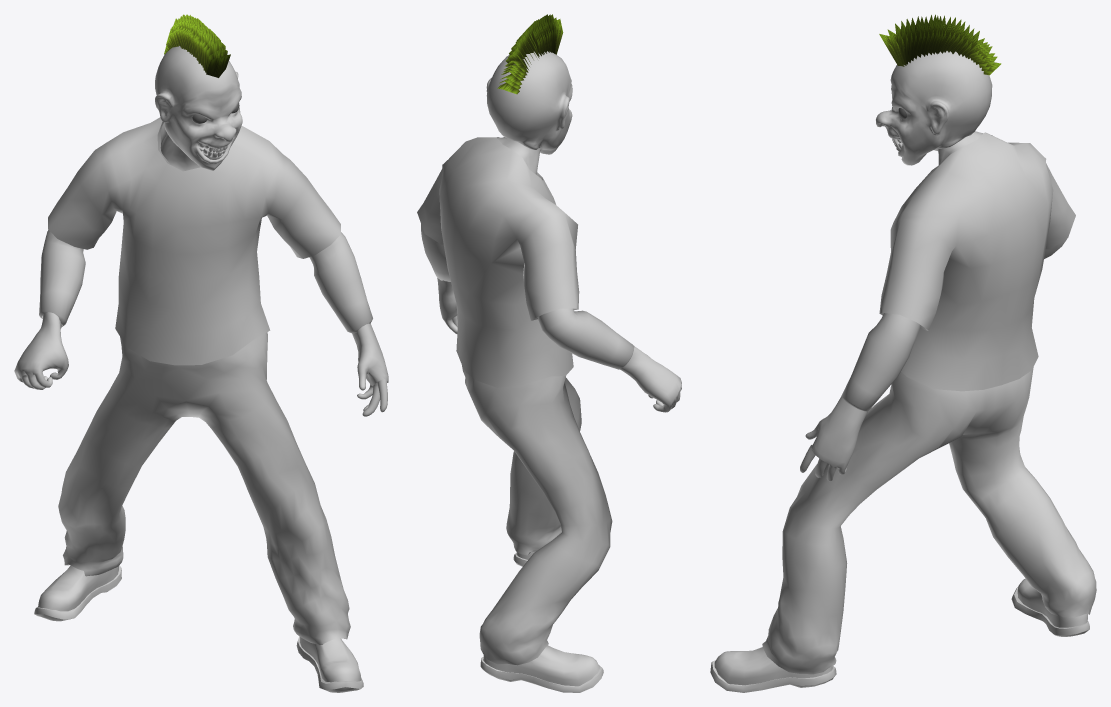
Rendered from Attack01 (57).obj.
3 renders of one model, left to right at view 1: azimuth 30°, elevation 25°; view 2: azimuth 150°, elevation 25°; view 3: azimuth 270°, elevation 25°, orthographic. The views are drawn at different scales.
Visible parts, largest first — view 1: shirt, pants, head, forearm_band_002, forearm_band_01, boots, hand_right, boots001, Hair, hand_left, neck; view 2: shirt, pants, head, forearm_band_01, boots, Hair, hand_right, forearm_band_002, hand_left, neck; view 3: pants, shirt, head, forearm_band_002, Hair, boots001, hand_left, boots.
Part boxes in pixels (left/top/right/bottom): shirt: left=48, top=117, right=340, bottom=365; pants: left=58, top=332, right=350, bottom=644; head: left=155, top=46, right=242, bottom=170; forearm_band_002: left=309, top=232, right=372, bottom=333; forearm_band_01: left=39, top=230, right=85, bottom=327; boots: left=34, top=565, right=121, bottom=621; hand_right: left=14, top=312, right=68, bottom=389; boots001: left=296, top=636, right=363, bottom=692; Hair: left=164, top=14, right=230, bottom=77; hand_left: left=352, top=323, right=388, bottom=416; neck: left=160, top=122, right=200, bottom=171; shirt: left=417, top=137, right=579, bottom=387; pants: left=461, top=364, right=612, bottom=665; head: left=486, top=51, right=572, bottom=154; forearm_band_01: left=537, top=308, right=634, bottom=369; boots: left=480, top=645, right=603, bottom=692; Hair: left=497, top=14, right=563, bottom=94; hand_right: left=620, top=346, right=681, bottom=412; forearm_band_002: left=421, top=224, right=450, bottom=281; hand_left: left=437, top=278, right=457, bottom=333; neck: left=497, top=137, right=541, bottom=174; pants: left=762, top=367, right=1096, bottom=674; shirt: left=879, top=132, right=1075, bottom=391; head: left=876, top=51, right=992, bottom=165; forearm_band_002: left=841, top=313, right=920, bottom=411; Hair: left=879, top=14, right=1001, bottom=75; boots001: left=710, top=647, right=836, bottom=692; hand_left: left=800, top=396, right=867, bottom=481; boots: left=1011, top=578, right=1089, bottom=636.
Bounding box in the file's own units: 92.76 × 181 × 98.35.
